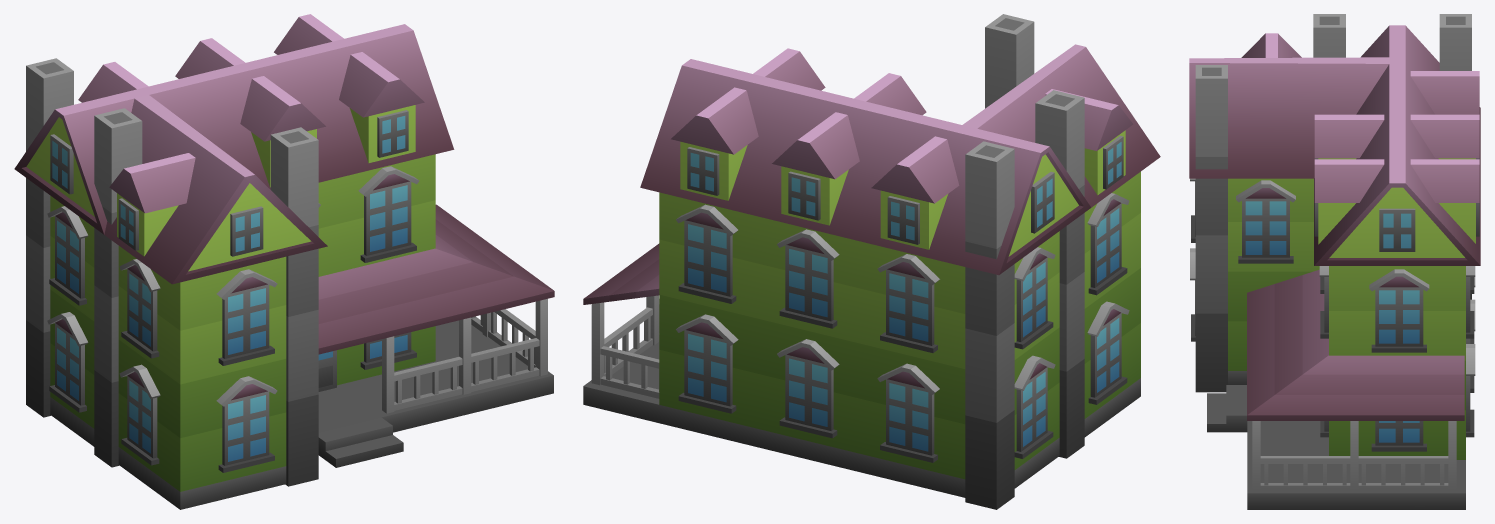
Rendered from three storey house with attic.fbx.
3 renders of one model, left to right at view 1: azimuth 30°, elevation 25°; view 2: azimuth 150°, elevation 25°; view 3: azimuth 270°, elevation 25°, orthographic. The views are drawn at different scales.
Parts seen in each view (by area): view 1: three_storey_house_with_attic; view 2: three_storey_house_with_attic; view 3: three_storey_house_with_attic.
Boxes of the visible parts, x1,y1,x2,y2 form: three_storey_house_with_attic: (14, 14, 554, 509); three_storey_house_with_attic: (583, 14, 1160, 509); three_storey_house_with_attic: (1189, 14, 1480, 509).
Bounding box in the file's own units: 1108 × 867 × 731.
Materials: 1 (1 with a texture image).
